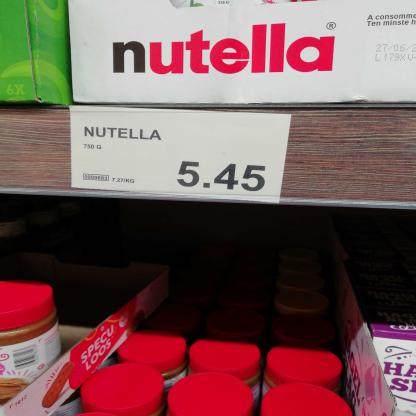prtg: (70, 106, 294, 205)
